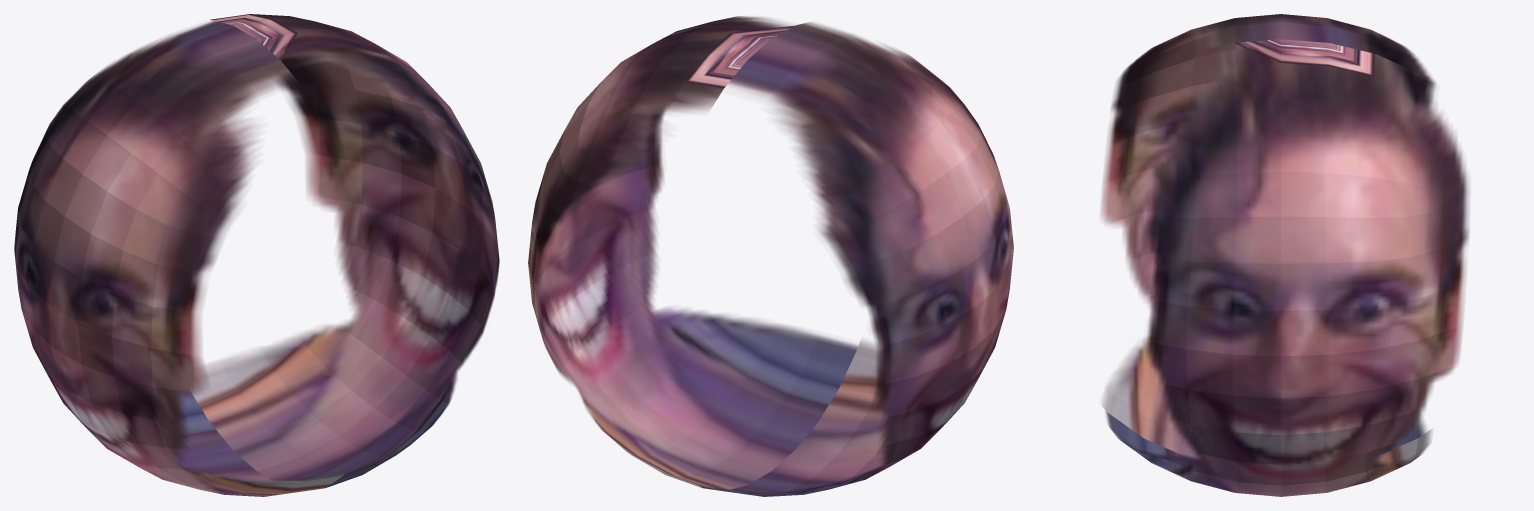
The model's file is transparent.glb.
The picture shows the model from 3 angles, left to right: view 1: azimuth 30°, elevation 25°; view 2: azimuth 150°, elevation 25°; view 3: azimuth 270°, elevation 25°; orthographic projection.
Visible parts, largest first — view 1: Cube; view 2: Cube; view 3: Cube.
Part boxes in pixels (left/top/right/bottom): Cube: left=14, top=14, right=499, bottom=496; Cube: left=528, top=16, right=1013, bottom=496; Cube: left=1101, top=14, right=1468, bottom=496.
Size of the model in its own units: 1.68 by 1.68 by 1.68.
1 material, 1 textured.
